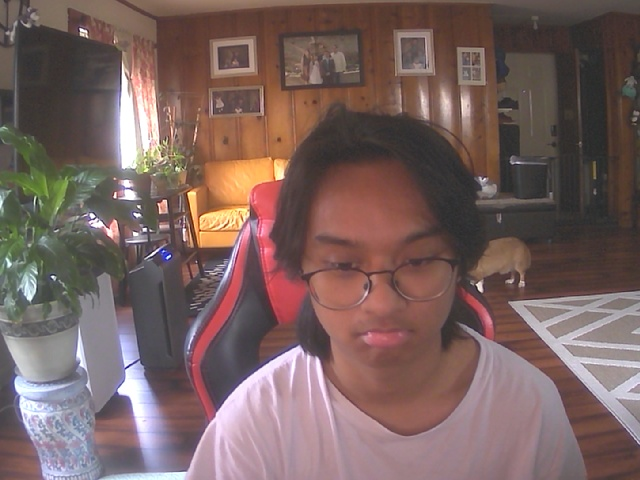sad: (294, 127, 474, 372)
